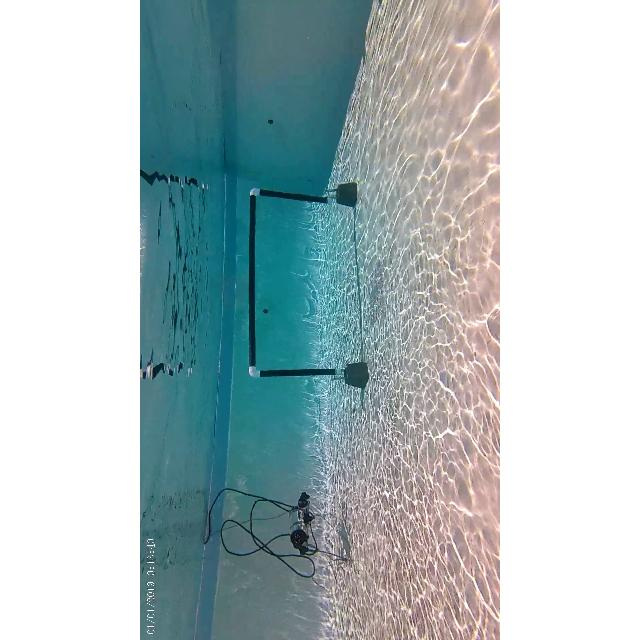prequal gate: (248, 186, 342, 376)
prequal gate leg l: (247, 364, 343, 378)
prequal gate leg r: (247, 182, 337, 206)
